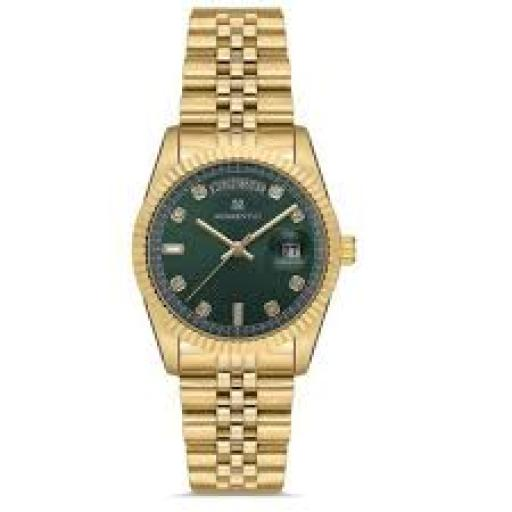KolSaati: (98, 3, 397, 500)
